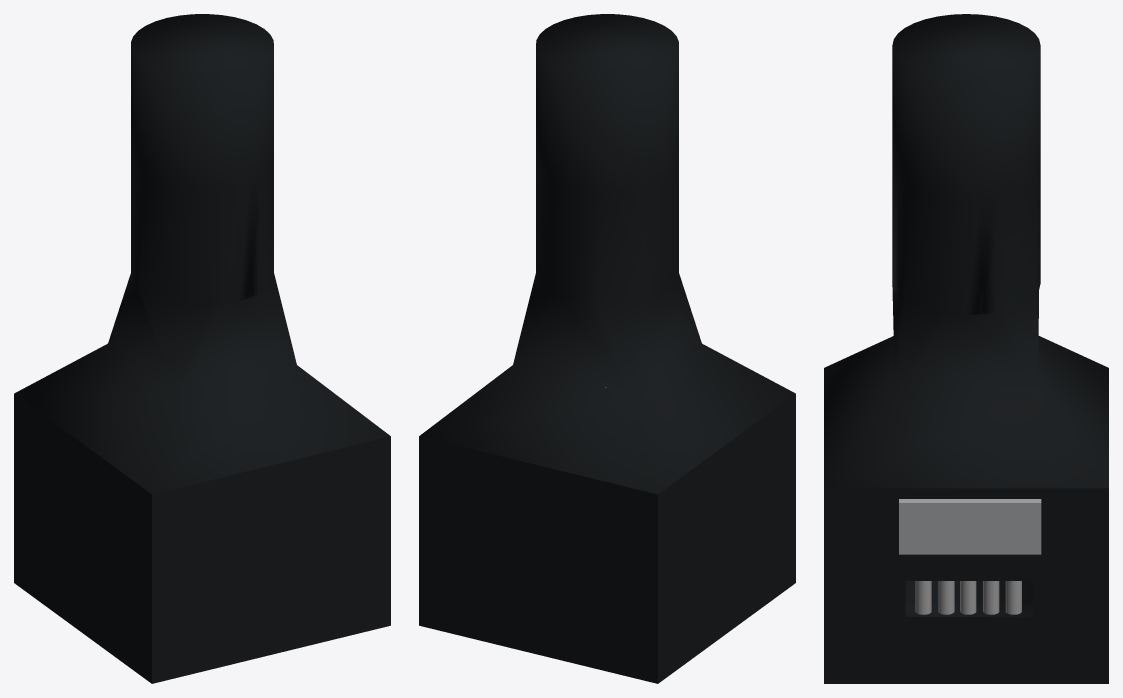
Rendered from Furnace.fbx.
3 views of the same model, side by side, from view 1: azimuth 30°, elevation 25°; view 2: azimuth 150°, elevation 25°; view 3: azimuth 270°, elevation 25° (orthographic). The views are drawn at different scales.
Visible parts, largest first — view 1: Cube; view 2: Cube; view 3: Cube, Circle.005.
Part boxes in pixels (left/top/right/bottom): Cube: left=14, top=14, right=390, bottom=683; Cube: left=419, top=14, right=795, bottom=683; Cube: left=824, top=14, right=1108, bottom=683; Circle.005: left=915, top=581, right=1021, bottom=614.
Bounding box in the file's own units: 206 × 448 × 200.
